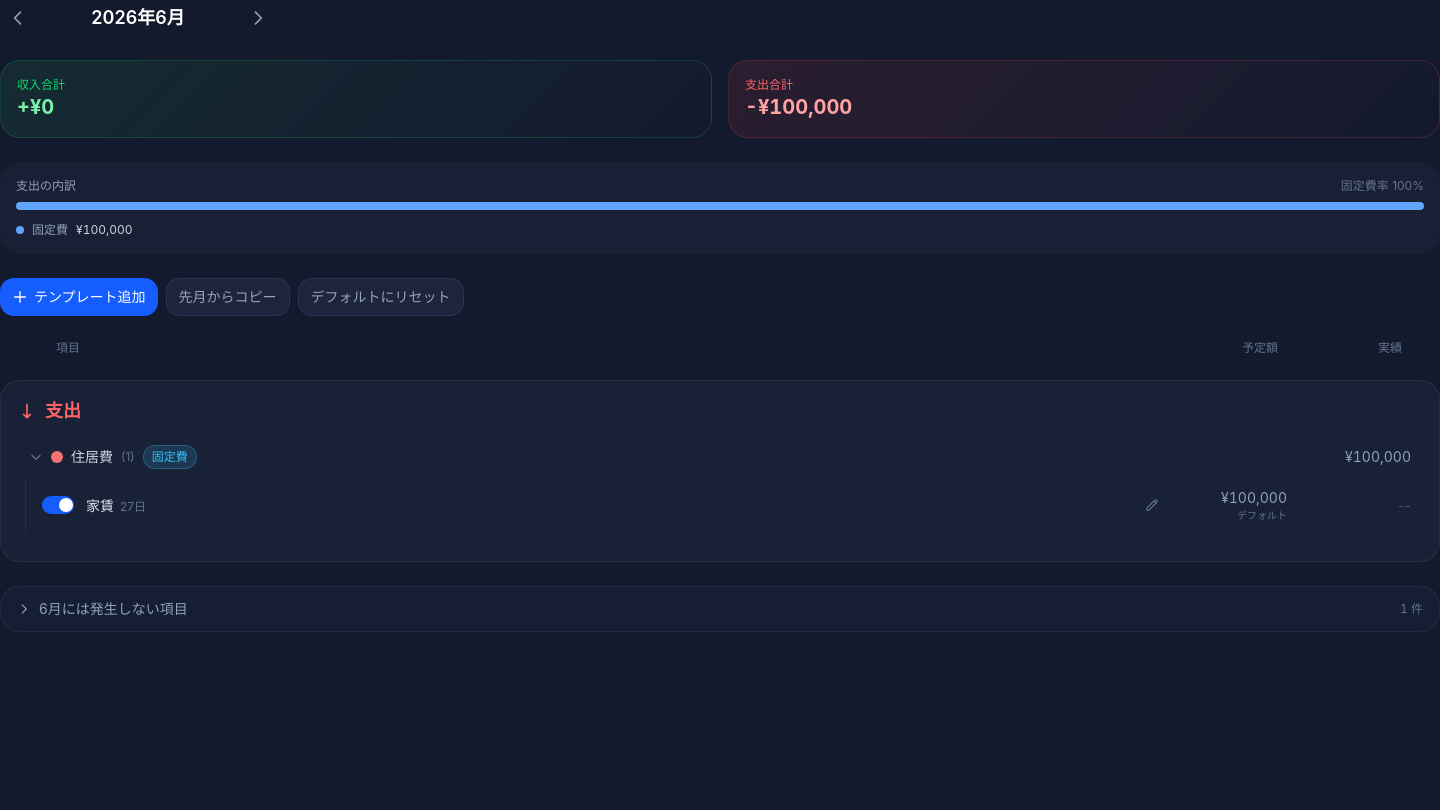
Test: entries that do not fall in this month › stay editable from a month they do not occur in
What coordinates should you click on to do the following:
click the button "6月には発生しない項目 1 件"
I would click on:
 (118, 608)
Its box is left=1, top=587, right=1439, bottom=631.
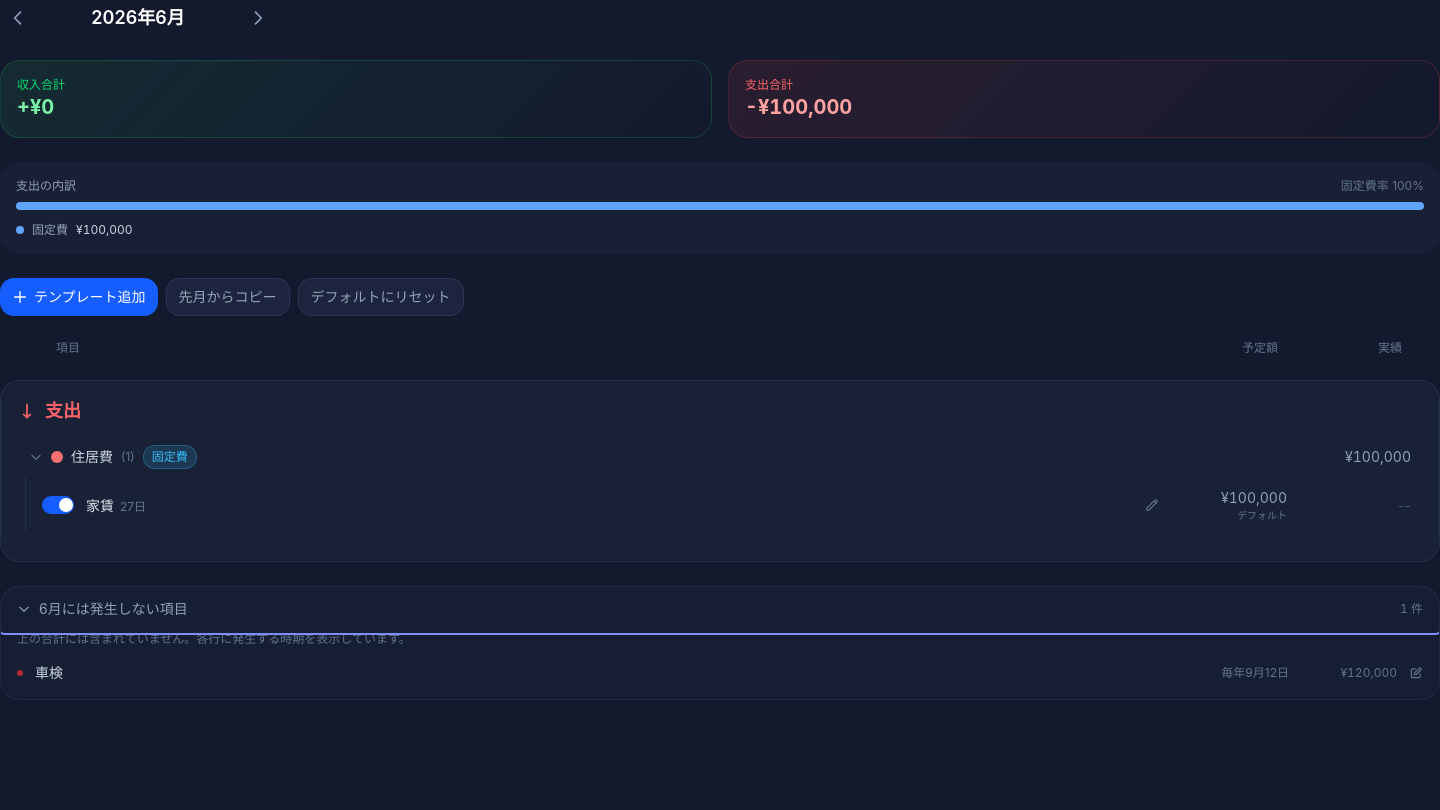
What coordinates should you click on to do the following:
click the button named "車検を編集"
I would click on:
 (1416, 673)
Its box is left=1409, top=666, right=1423, bottom=680.
(page scrolled)
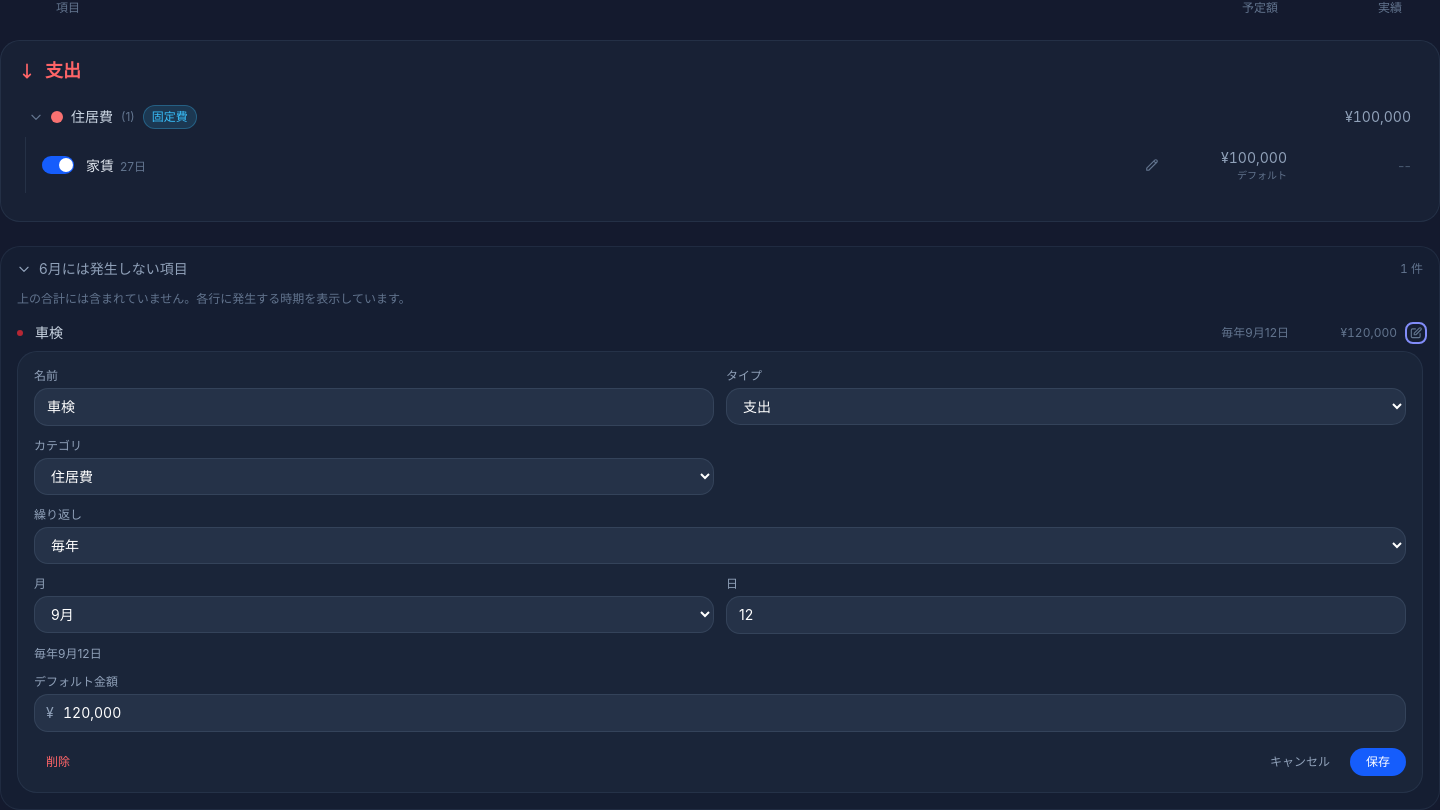
Now the dropdown labelled "繰り返し" shows "毎年", box left=34, top=527, right=1406, bottom=564
Now the dropdown labelled "月" shows "9月", box left=34, top=596, right=714, bottom=633
